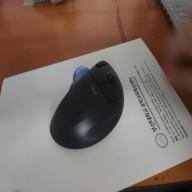mouse: (41, 54, 139, 164)
